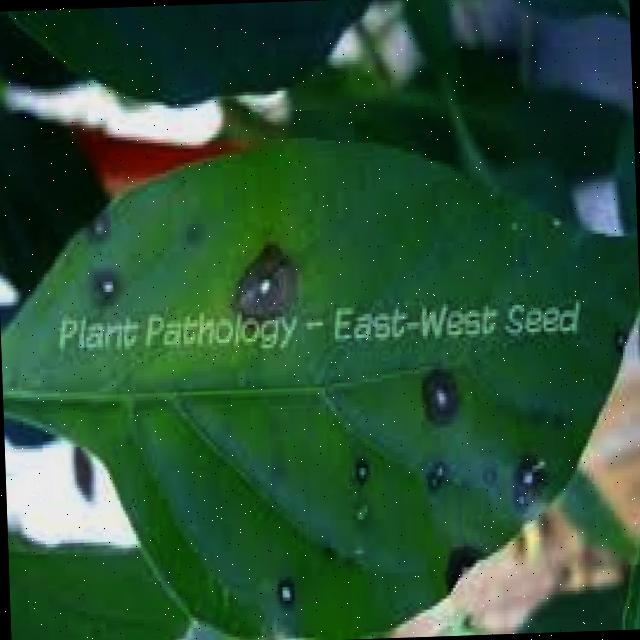leaf spot: (0, 113, 640, 640)
